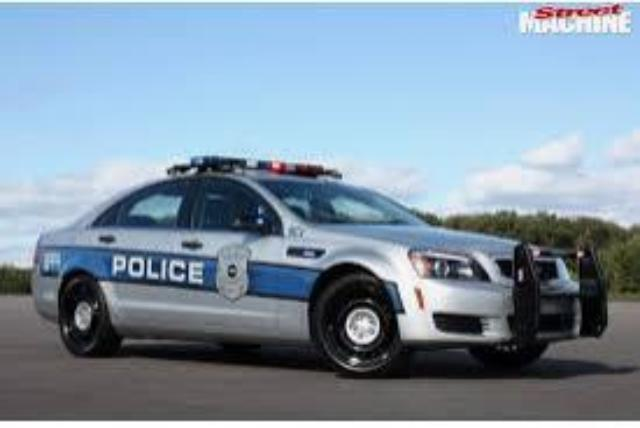police: (30, 151, 584, 377)
